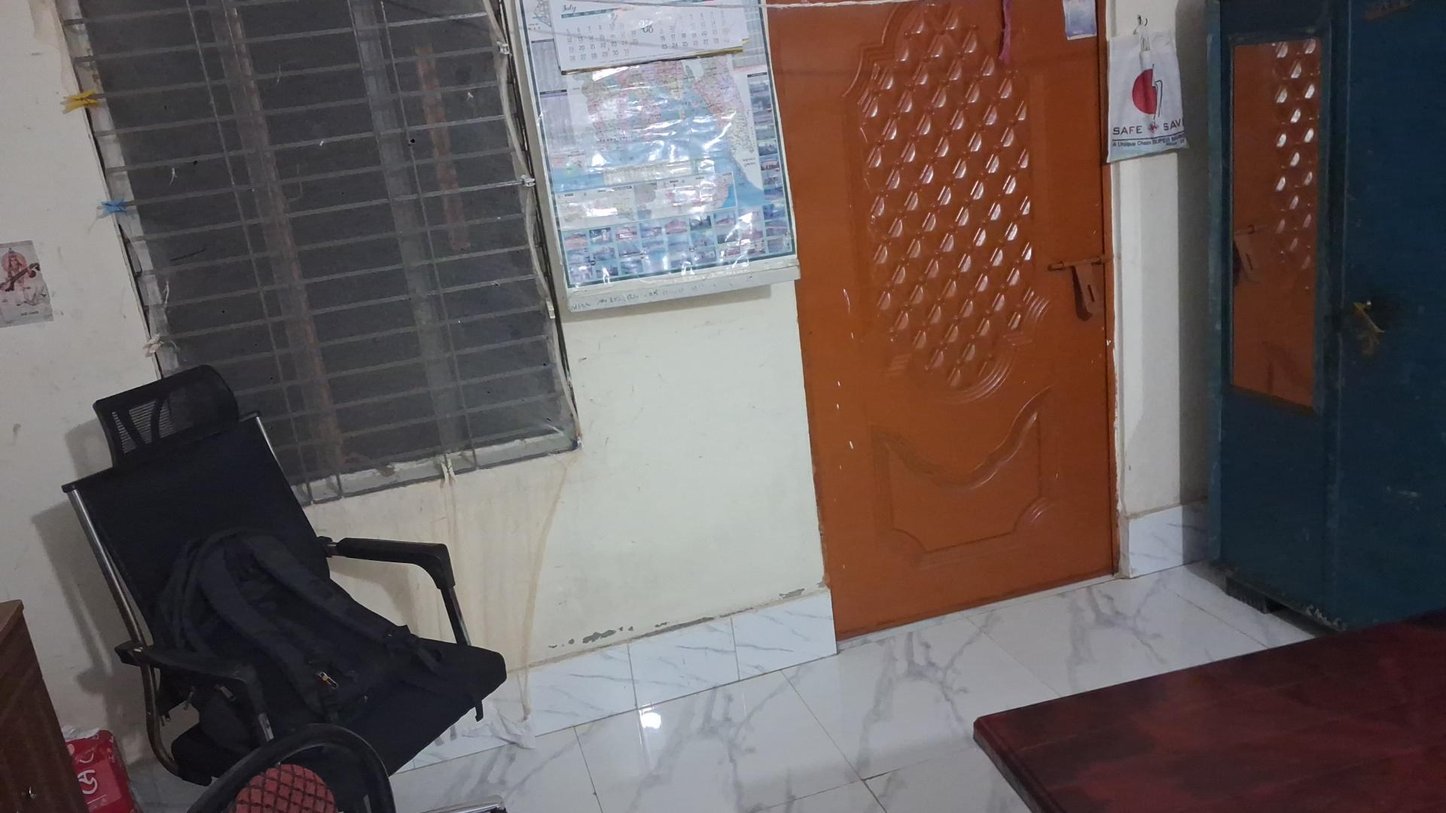Bag: (172, 508, 410, 747), (1100, 31, 1192, 156)
Chair: (62, 411, 508, 800)
Door: (761, 7, 1141, 625)
Mirror: (1218, 38, 1335, 405)
Photo: (0, 245, 62, 326)
Table: (964, 634, 1446, 812)
Window: (57, 2, 582, 502)
